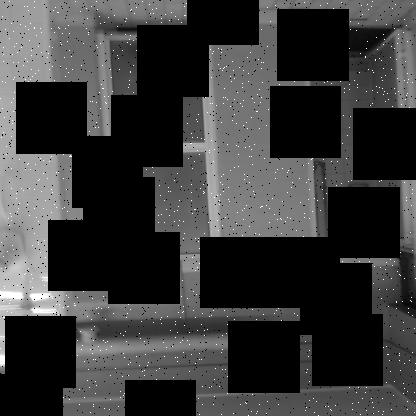Porte: (96, 29, 224, 276), (303, 28, 415, 256)
